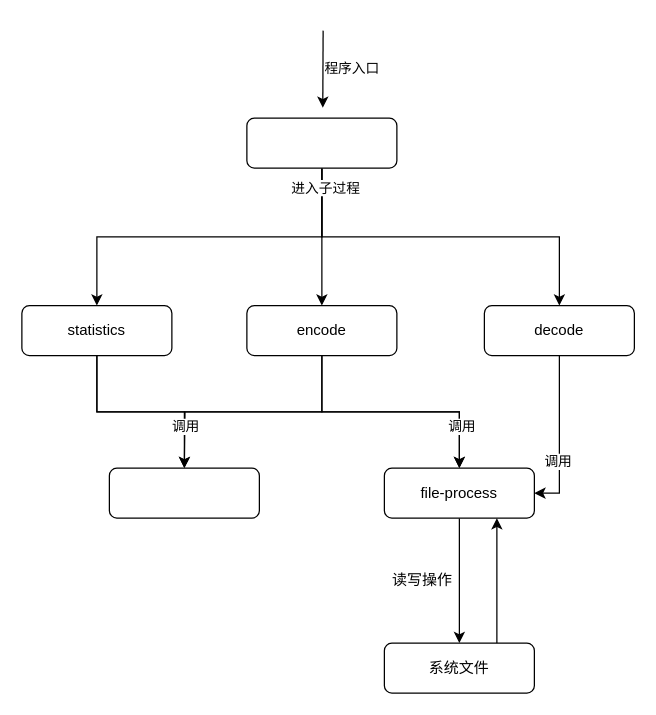
Image size: 656x715. Some labels were removed from this diagram. The shapes that lost their labels are listed below. From the top down, each one's centre as x and y in pixels, then its label:
At (x=321, y=142): "main".
At (x=183, y=492): "data-structure".
